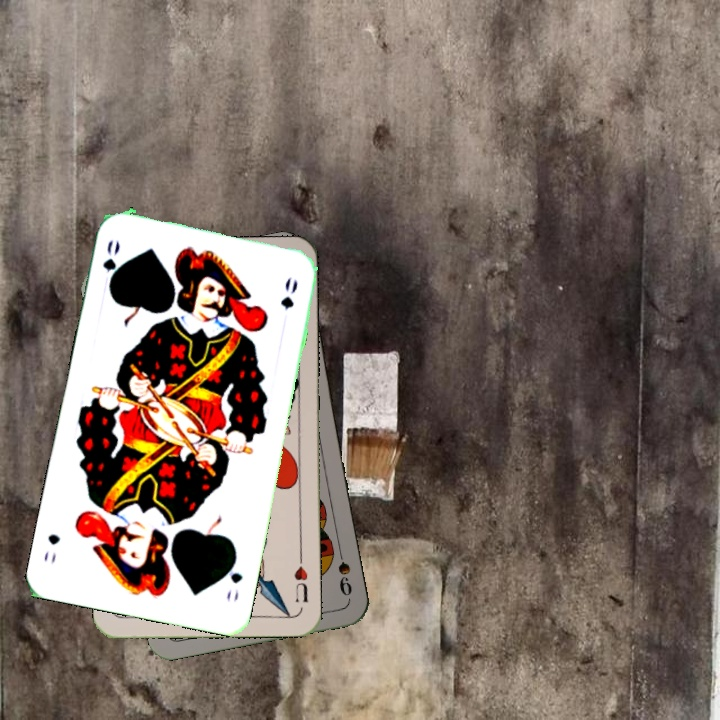GO: (98, 236, 123, 289), (222, 550, 246, 604)
HU: (290, 551, 311, 605)
S9: (333, 541, 355, 599)
